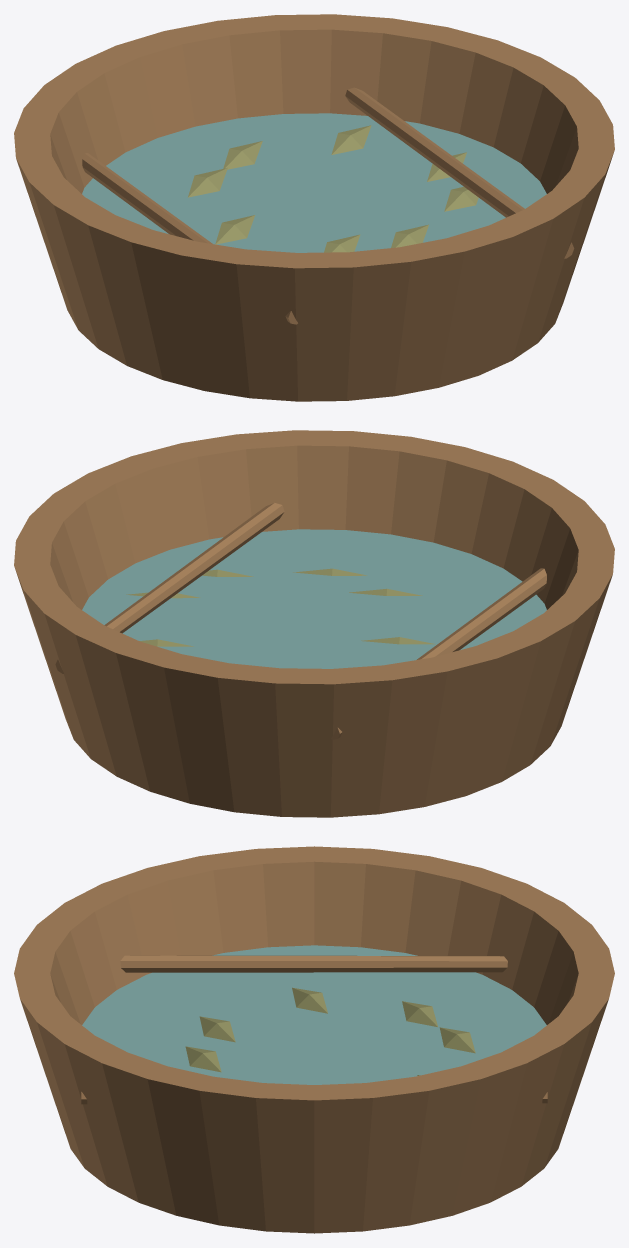
3 renders of one model, top to bottom at view 1: azimuth 30°, elevation 25°; view 2: azimuth 150°, elevation 25°; view 3: azimuth 270°, elevation 25°, orthographic.
Visible parts, largest first — view 1: CE-056 Seaweed soaking trough batched; view 2: CE-056 Seaweed soaking trough batched; view 3: CE-056 Seaweed soaking trough batched.
Part boxes in pixels (<box>): CE-056 Seaweed soaking trough batched: <box>14,14,614,401</box>; CE-056 Seaweed soaking trough batched: <box>14,430,614,817</box>; CE-056 Seaweed soaking trough batched: <box>14,846,614,1233</box>.
Size of the model in its own units: 1.16 by 0.33 by 1.16.
